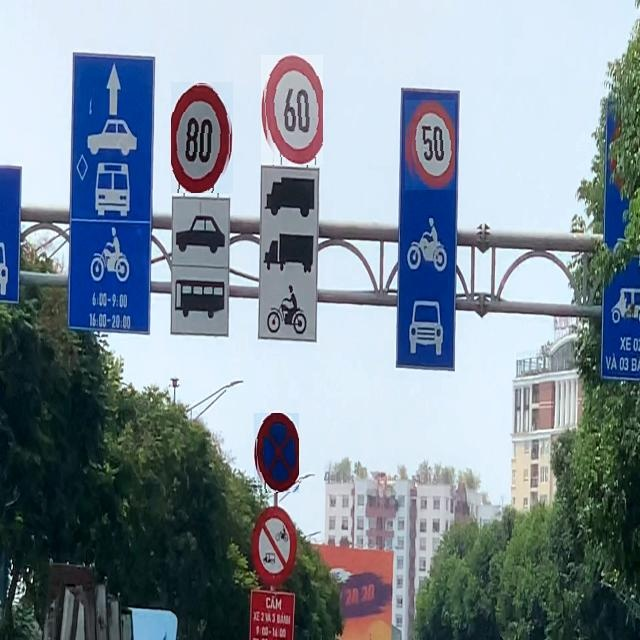bien_hieu_lenh: (171, 82, 233, 193), (261, 55, 323, 165), (405, 100, 455, 190), (254, 413, 299, 493)
